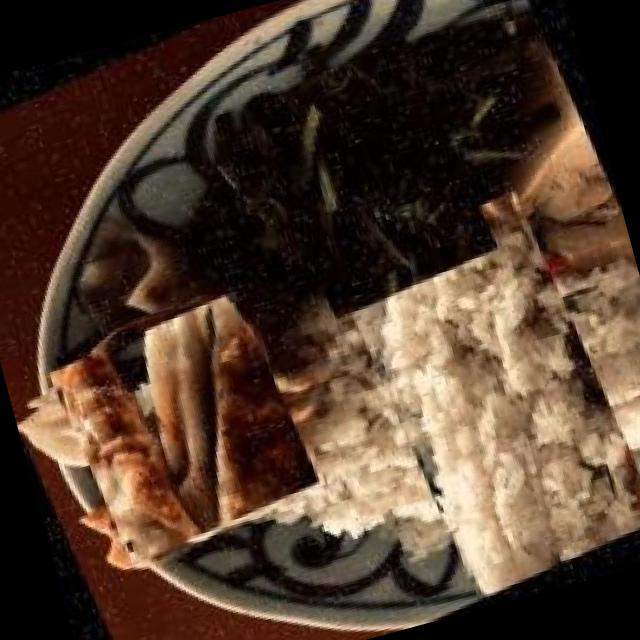fried_dumplings: (39, 282, 330, 574)
rice: (298, 201, 640, 603)
water_spinach: (226, 34, 514, 322)
